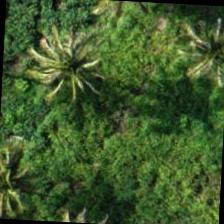Kelapa_Sawit: (19, 19, 114, 114), (164, 4, 223, 98)
